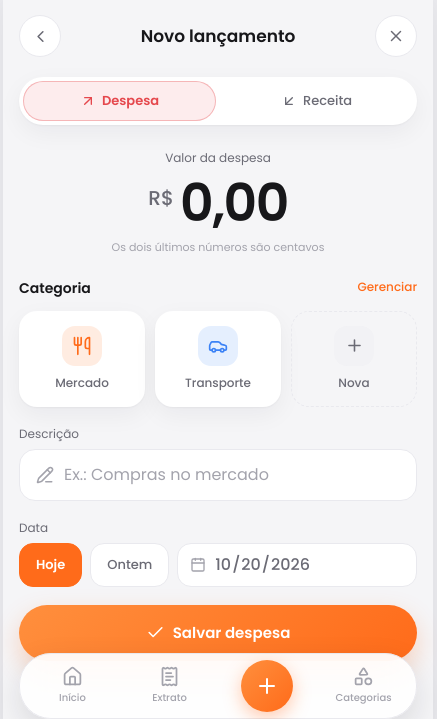
Scenario: new transaction › switching to receita shows only income categories
The width and height of the screenshot is (437, 719).
Expected: the radio button labelled "Mercado" is shown, [19,311,145,407]
Click the button "Receita" at coordinates (316, 101), box [220,81,413,121]
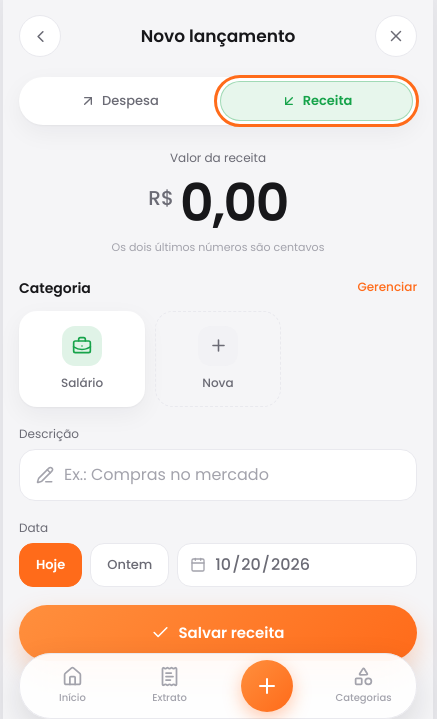
Expected: the button "Salvar receita" is enabled, [19,605,417,661]
Expected: the radio button labelled "Salário" is shown, [19,311,145,407]
